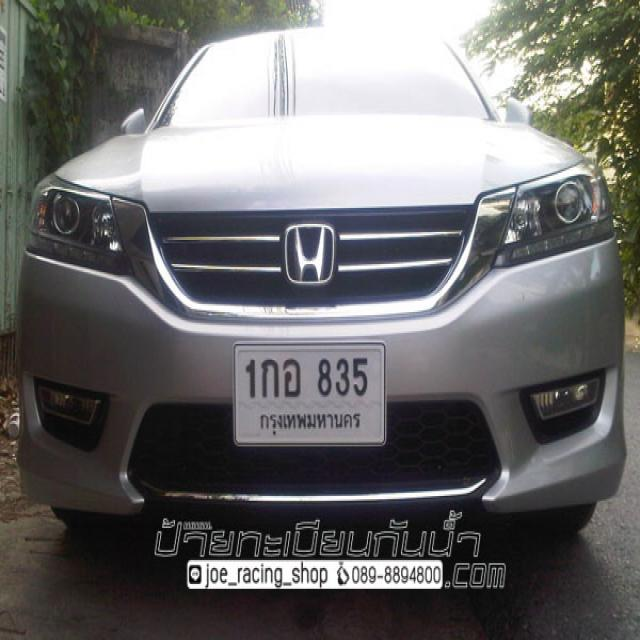license_plate: (233, 340, 388, 449)
